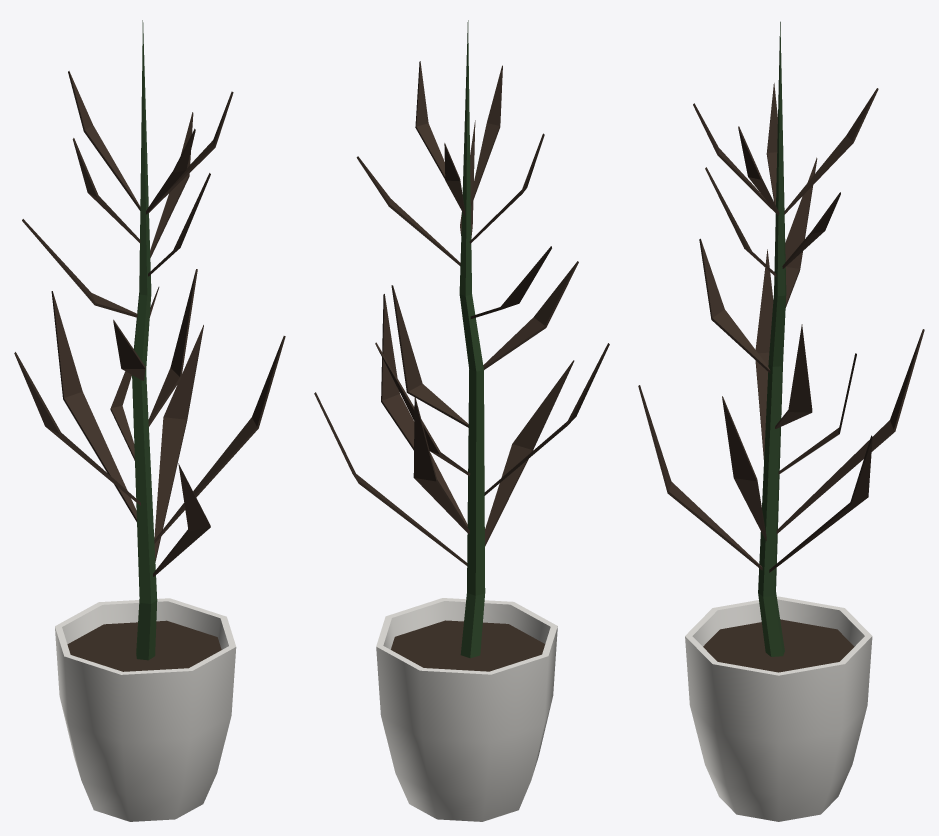
File: pk_plant_tall.glb
3 renders of one model, left to right at view 1: azimuth 30°, elevation 25°; view 2: azimuth 150°, elevation 25°; view 3: azimuth 270°, elevation 25°, orthographic.
Visible parts, largest first — view 1: pk_plant_tall; view 2: pk_plant_tall; view 3: pk_plant_tall.
Boxes of the visible parts, x1,y1,x2,y2 form: pk_plant_tall: [14, 20, 285, 821]; pk_plant_tall: [314, 20, 609, 821]; pk_plant_tall: [638, 21, 924, 821].
Size of the model in its own units: 0.4983 by 1.5 by 0.4983.
Materials: 1 (1 with a texture image).
